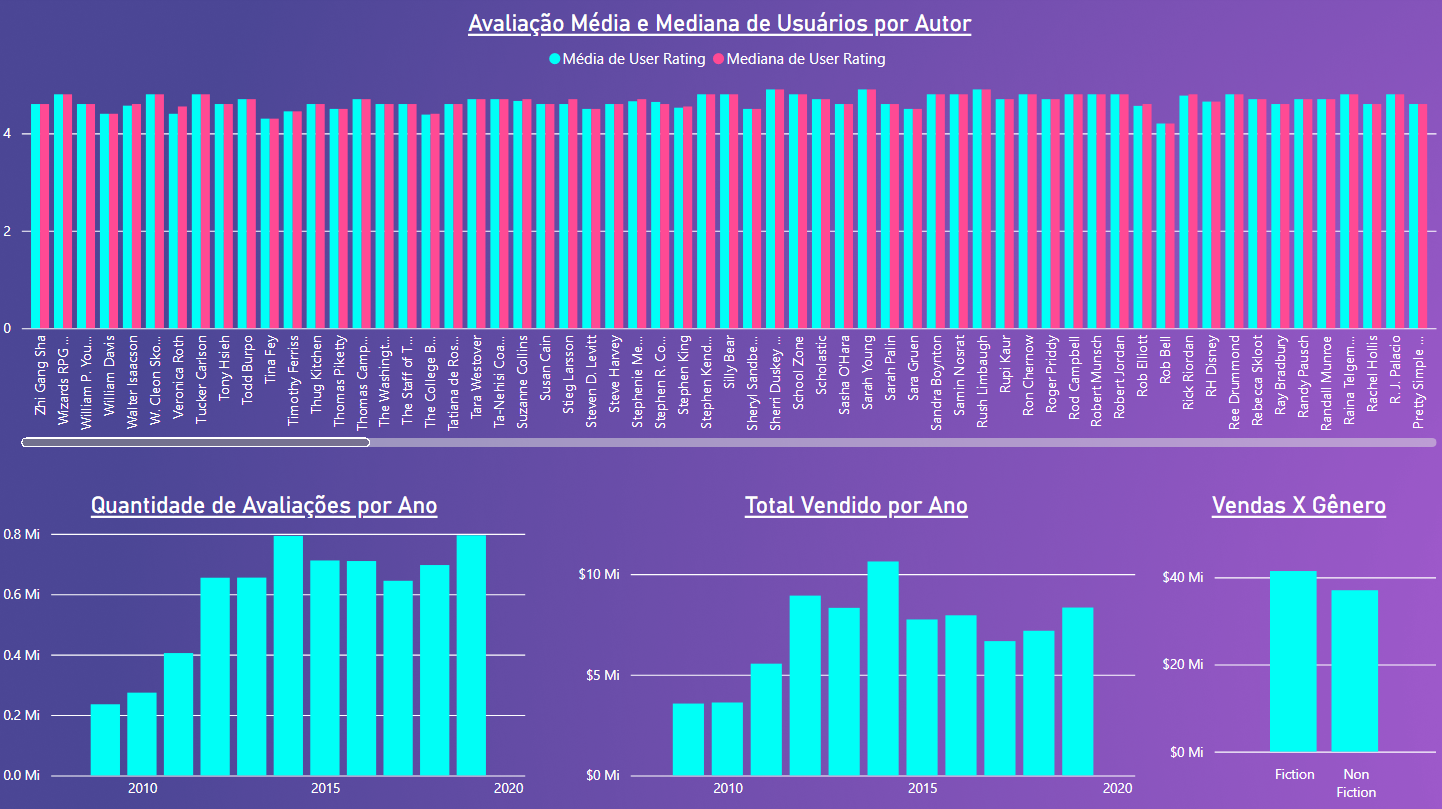

What the dashboard file says about the page in this screenshot:
{"tool":"powerbi","page":{"name":"Avaliações","canvas":[1280,720],"ordinal":0},"visuals":[{"type":"clusteredColumnChart","title":"Quantidade de Avaliações por Ano","fields":{"Y":["bestsellers with categories.Reviews"],"Category":["bestsellers with categories.Year"]},"box":[0,439.2,473.3,280.6],"z":0},{"type":"columnChart","title":"Total Vendido por Ano","fields":{"Category":["bestsellers with categories.Year"],"Y":["bestsellers with categories.Vendido"]},"box":[509.1,439.2,503.8,280.6],"z":1000},{"type":"columnChart","title":"Vendas X Gênero","fields":{"Category":["bestsellers with categories.Genre"],"Y":["bestsellers with categories.Vendido"]},"box":[1026.7,439.3,253.3,280.5],"z":2000},{"type":"clusteredColumnChart","title":"Avaliação Média e Mediana de Usuários por Autor","fields":{"Category":["bestsellers with categories.Author"],"Y":["bestsellers with categories.User Rating","bestsellers with categories.User Rating"]},"box":[0,12.5,1280,391.7],"z":7000}]}

Visuals, with their boxes in screenshot pixels (x1, y1, x2, y2), scaled from the page's 1280x720 canvas onto the 1442x809 screenshot:
"Quantidade de Avaliações por Ano" clusteredColumnChart: locate(0, 493, 533, 808)
"Total Vendido por Ano" columnChart: locate(574, 493, 1141, 808)
"Vendas X Gênero" columnChart: locate(1157, 494, 1441, 808)
"Avaliação Média e Mediana de Usuários por Autor" clusteredColumnChart: locate(0, 14, 1441, 454)
